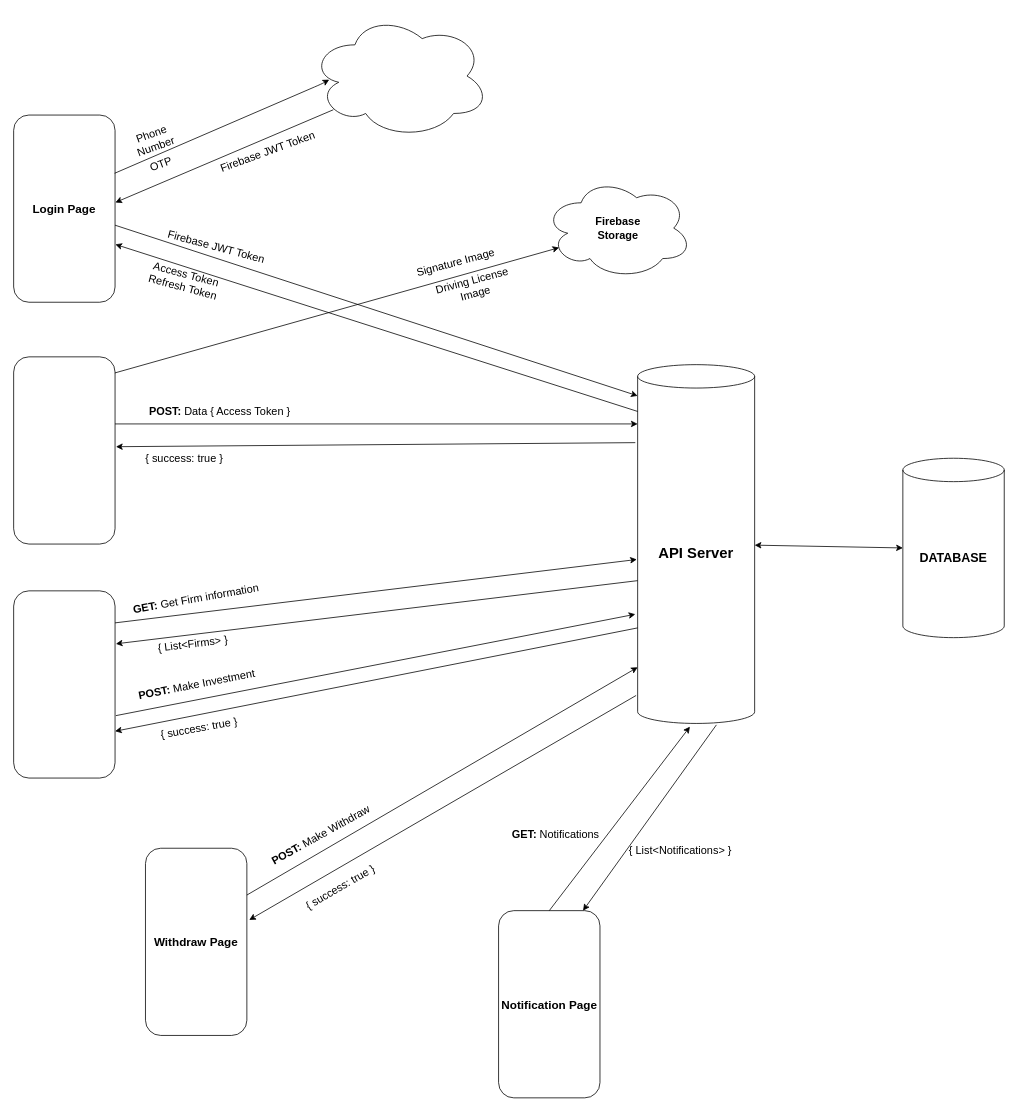
Image size: 1018x1112. Some labels were removed from this diagram. Here are the shapes that lost their labels. From the top down, the centre of each, then its label:
the point at 399,75: Firebase Authentication
the point at 64,450: KYC Page
the point at 64,684: Investment Page
